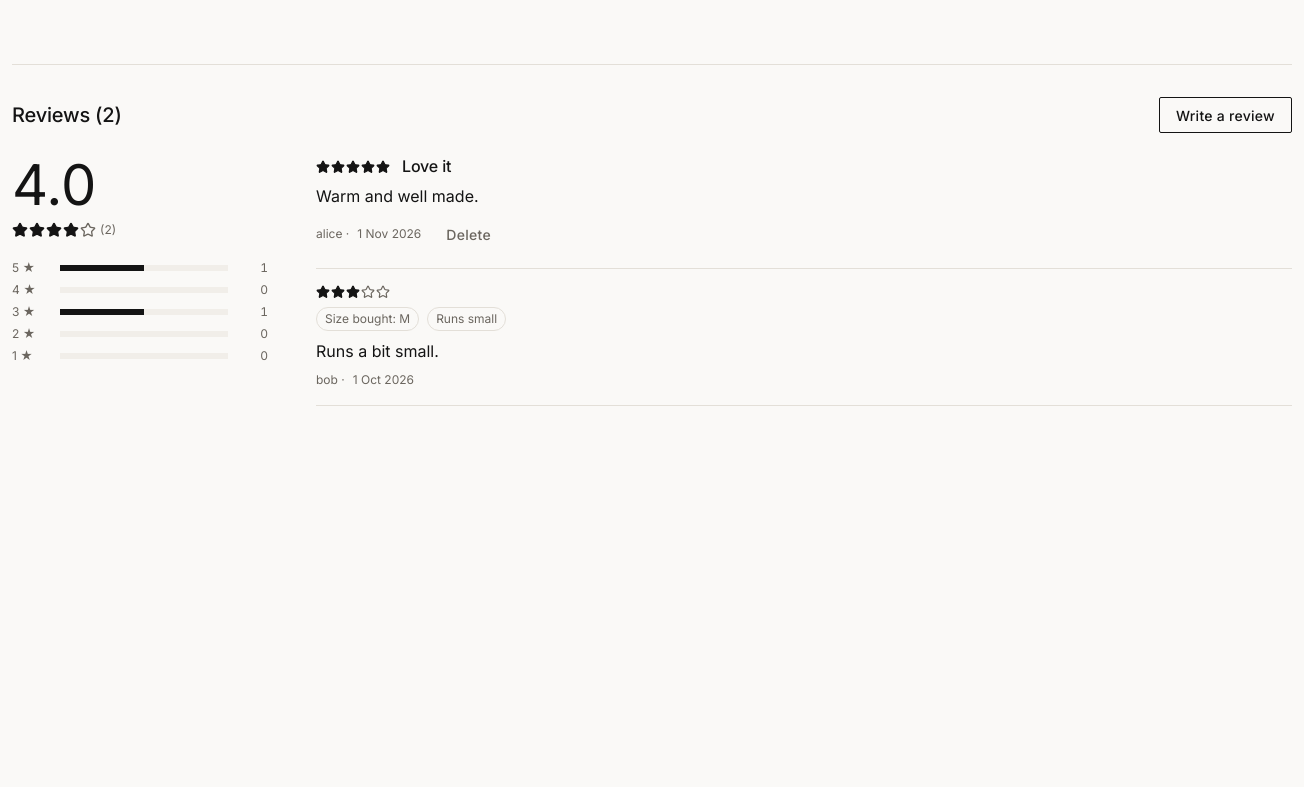
Test case: ProductReviews › requires a rating and posts the review
Later steps or results of the test are not shown.
Step 1. Click the button "Write a review" → [1225, 115], box [1159,97,1292,133]
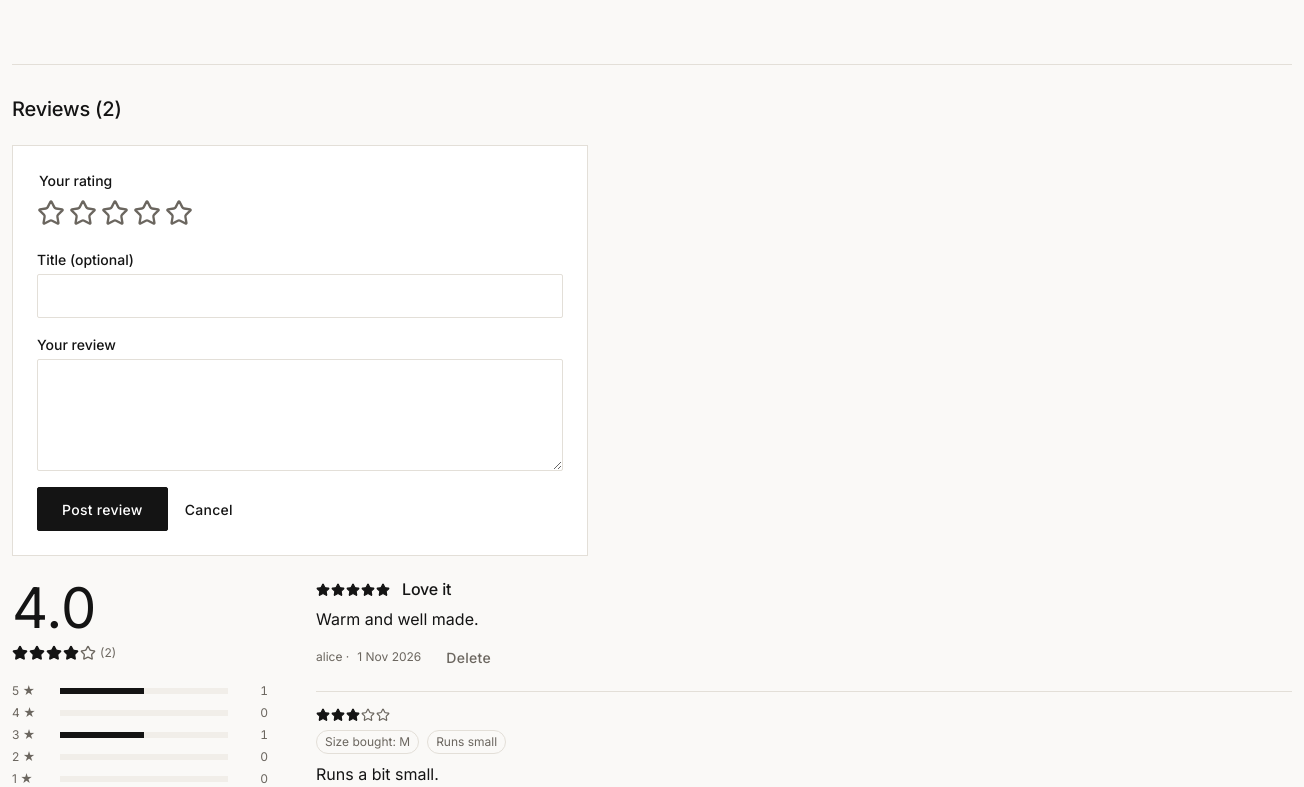
Step 2. Type "Great quality, true to size." into the text box labelled "Your review" → [300, 415], box [37,359,563,471]
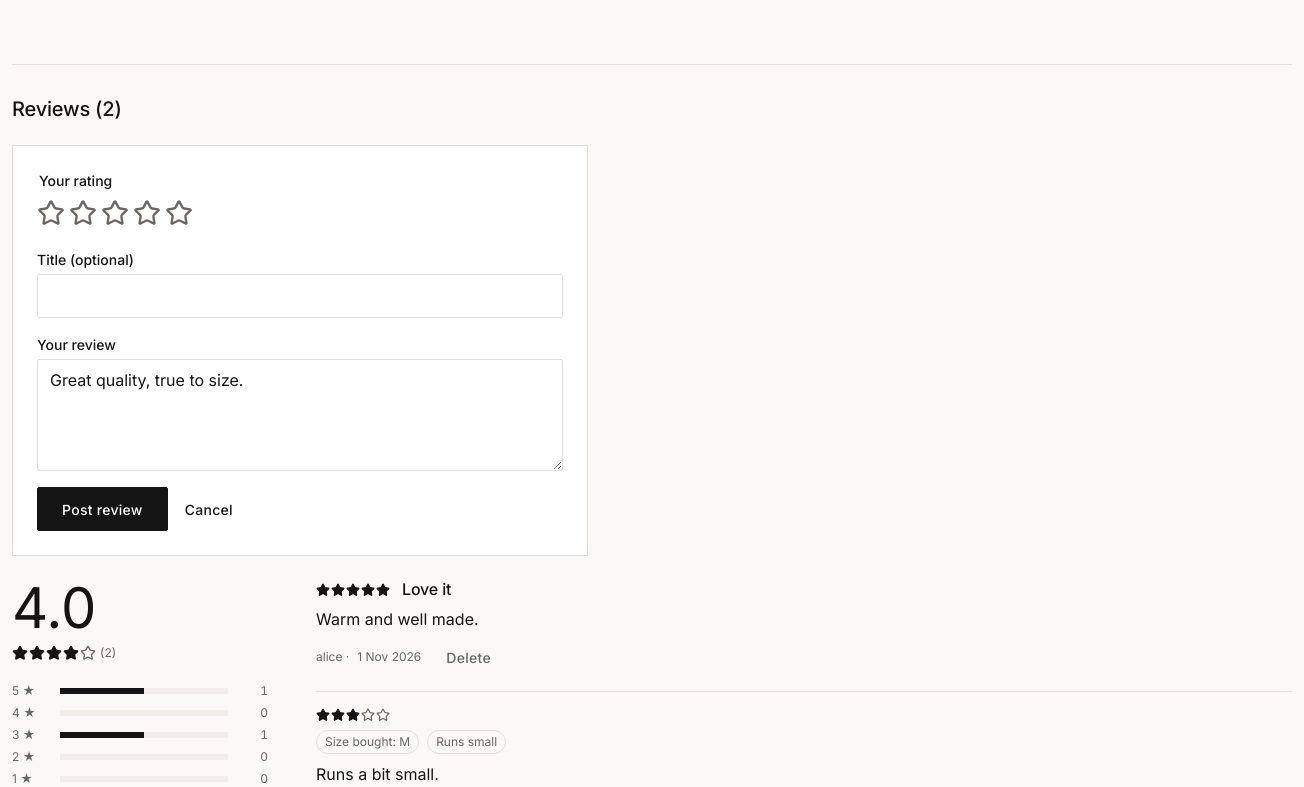
Step 3. Click the button "Post review" → [102, 509], box [37,487,168,531]
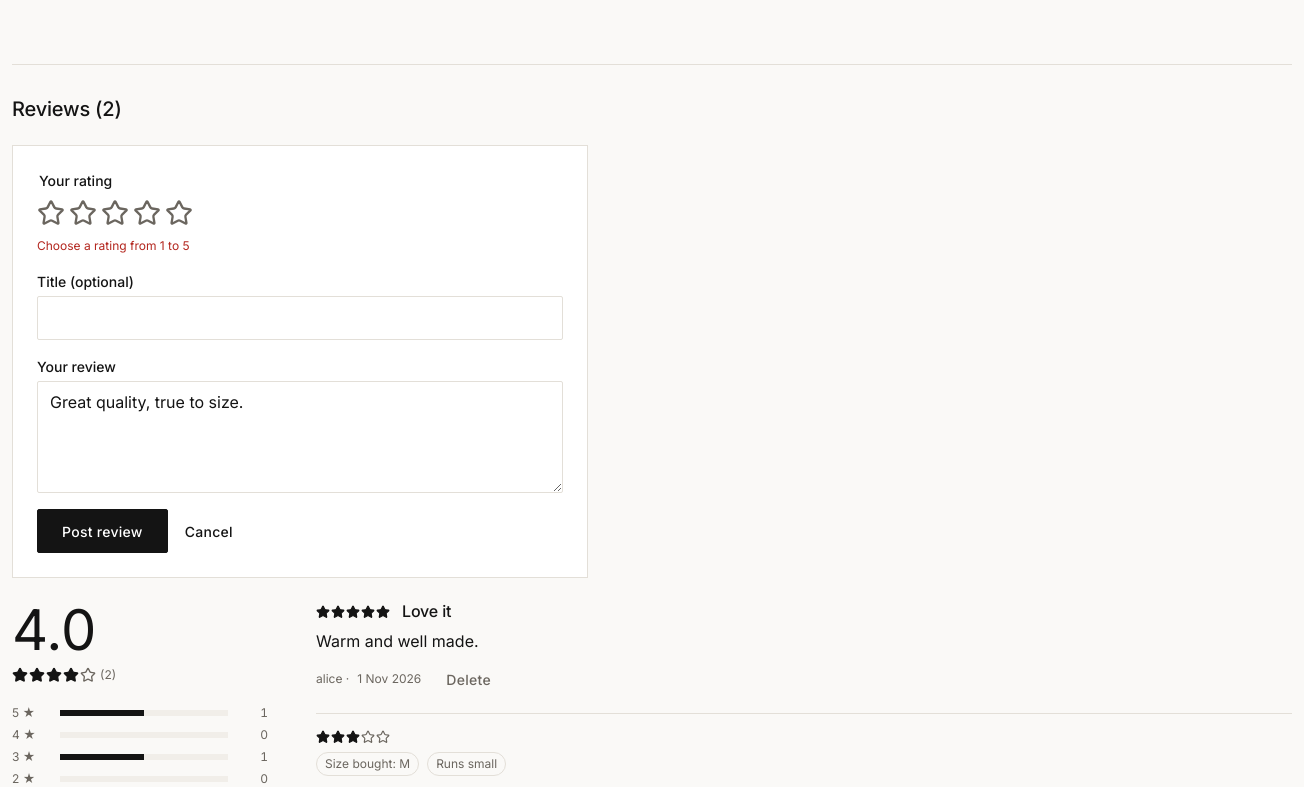
Expected: the text "Choose a rating from 1 to 5" is shown, [37,238,190,253]
